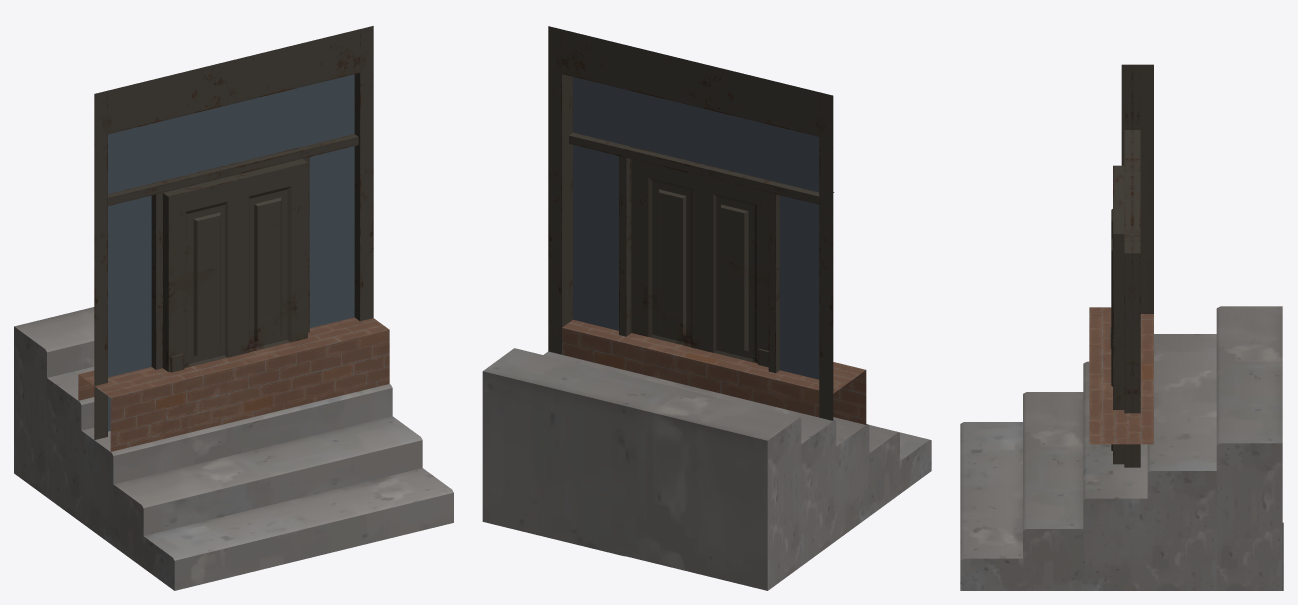
File: rooftop-kit.glb
The picture shows the model from 3 angles, left to right: view 1: azimuth 30°, elevation 25°; view 2: azimuth 150°, elevation 25°; view 3: azimuth 270°, elevation 25°; orthographic projection. The views are drawn at different scales.
Parts seen in each view (by area): view 1: Stairs, DoorFrame, Door, Parapet; view 2: Stairs, DoorFrame, Door, Parapet; view 3: Stairs, DoorFrame, Parapet, Door.
Part boxes in pixels (x1,y1,x2,y2): Stairs: (14,307,453,590); DoorFrame: (94,26,373,439); Door: (163,159,307,372); Parapet: (78,317,389,451); Stairs: (482,348,931,590); DoorFrame: (548,26,834,420); Door: (631,159,768,367); Parapet: (549,320,866,424); Stairs: (960,306,1282,590); DoorFrame: (1121,64,1153,467); Parapet: (1089,307,1153,444); Door: (1110,165,1124,464).
Size of the model in its own units: 2 by 3.01 by 2.
Materials: 6 (5 with a texture image).
